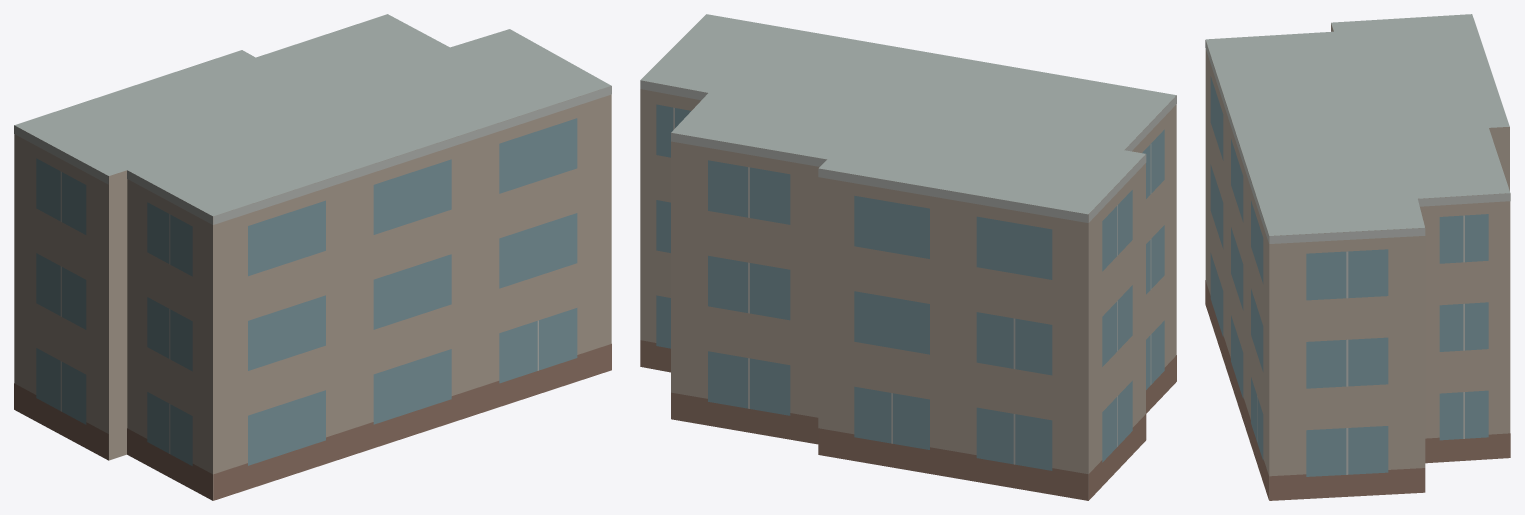
Rendered from survey-upis-32931161.glb.
3 views of the same model, side by side, from view 1: azimuth 30°, elevation 25°; view 2: azimuth 150°, elevation 25°; view 3: azimuth 270°, elevation 25° (orthographic). The views are drawn at different scales.
Parts seen in each view (by area): view 1: survey-upis-32931161.tmp; view 2: survey-upis-32931161.tmp; view 3: survey-upis-32931161.tmp.
Boxes of the visible parts, x1,y1,x2,y2 form: survey-upis-32931161.tmp: [14, 14, 611, 500]; survey-upis-32931161.tmp: [640, 14, 1176, 500]; survey-upis-32931161.tmp: [1205, 14, 1510, 500].
Size of the model in its own units: 14.39 by 8 by 8.36.
